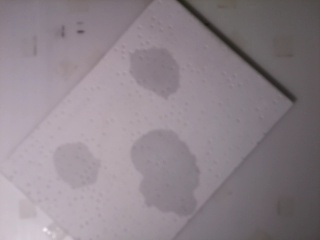Water_detected: (130, 132, 192, 207), (134, 46, 178, 85), (68, 146, 99, 187)
